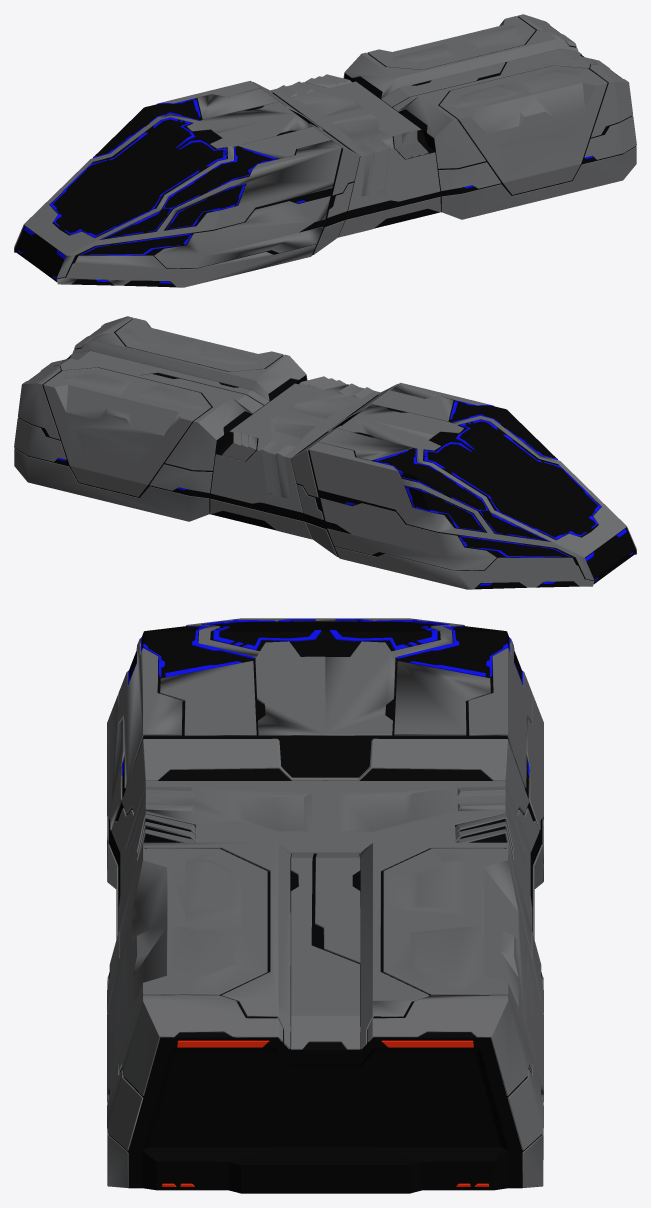
File: flying_ship.glb
3 views of the same model, one above another, from view 1: azimuth 30°, elevation 25°; view 2: azimuth 150°, elevation 25°; view 3: azimuth 270°, elevation 25° (orthographic). The views are drawn at different scales.
Visible parts, largest first — view 1: FlyingShip; view 2: FlyingShip; view 3: FlyingShip.
Part boxes in pixels (<box>): FlyingShip: <box>14,14,636,287</box>; FlyingShip: <box>14,316,636,589</box>; FlyingShip: <box>107,618,543,1193</box>.
Size of the model in its own units: 7.16 by 1.22 by 2.42.
